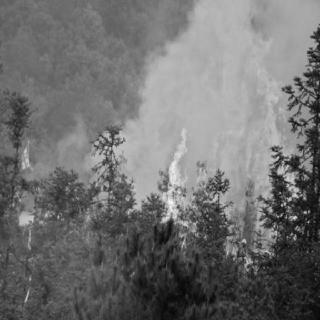Fire: (162, 71, 306, 270)
Smoke: (113, 8, 261, 190)
